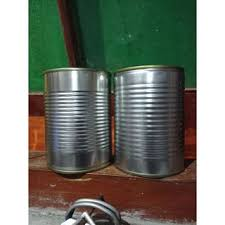metal: (112, 63, 184, 178), (42, 65, 112, 175)
